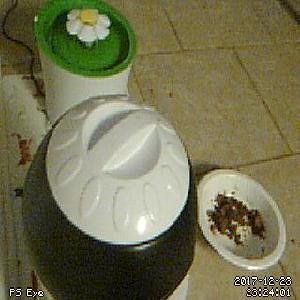fountain: (34, 1, 136, 78)
